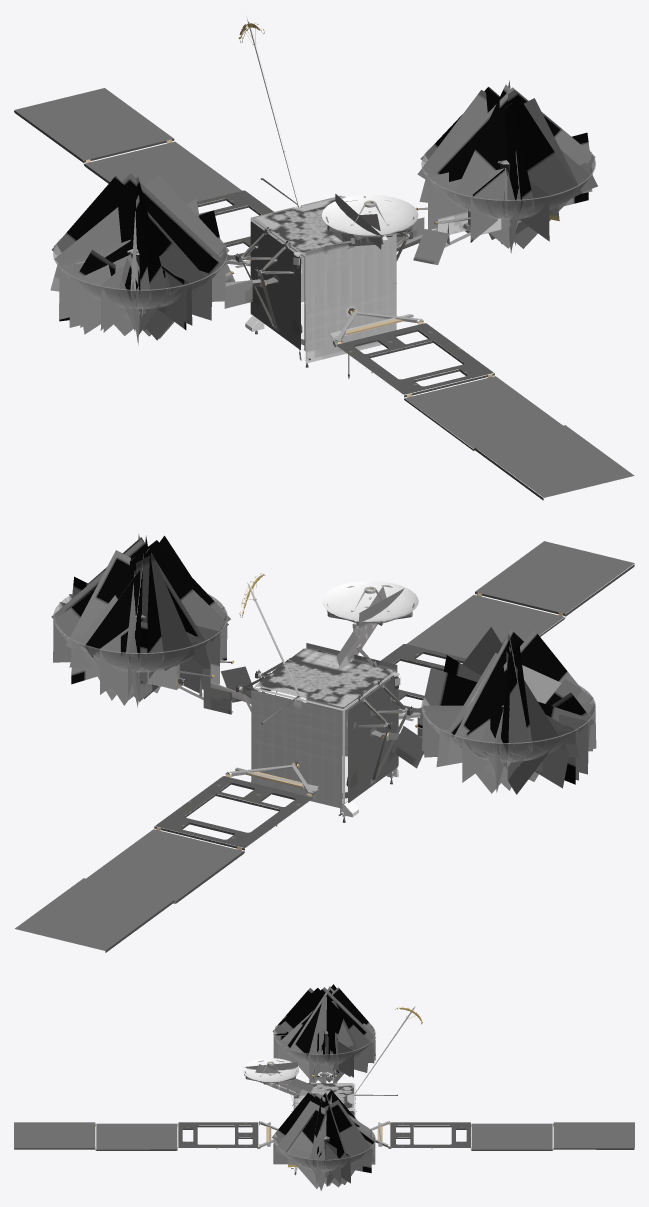
3 renders of one model, top to bottom at view 1: azimuth 30°, elevation 25°; view 2: azimuth 150°, elevation 25°; view 3: azimuth 270°, elevation 25°, orthographic. The views are drawn at different scales.
Visible parts, largest first — view 1: mainbody; view 2: mainbody; view 3: mainbody.
Boxes of the visible parts, x1=… form: mainbody: x1=14, y1=15, x2=634, y2=500; mainbody: x1=15, y1=534, x2=634, y2=952; mainbody: x1=14, y1=984, x2=634, y2=1190.
Bounding box in the file's own units: 1.74 × 0.9375 × 3.02.
43 materials, 2 textured.
